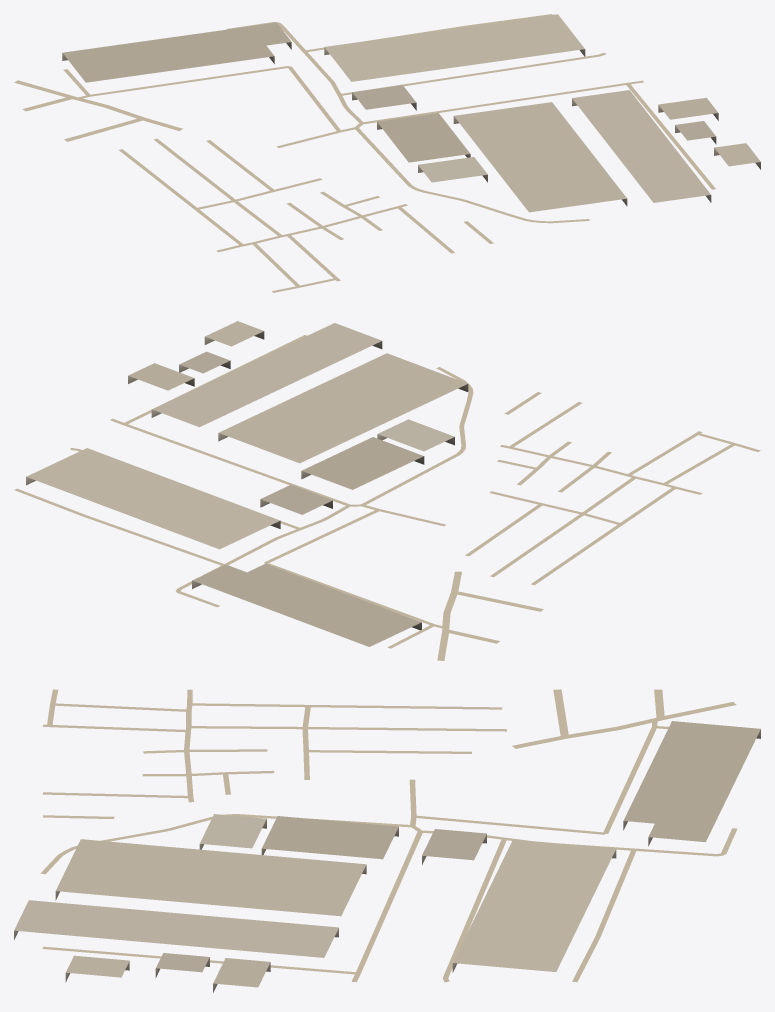
3 renders of one model, top to bottom at view 1: azimuth 30°, elevation 25°; view 2: azimuth 150°, elevation 25°; view 3: azimuth 270°, elevation 25°, orthographic. The views are drawn at different scales.
Parts seen in each view (by area): view 1: building, ground; view 2: building, ground; view 3: building, ground.
Part boxes in pixels (box(x1,y1,x2,y2)): building: box(62, 14, 760, 212); ground: box(14, 14, 715, 292); building: box(26, 321, 468, 646); ground: box(14, 335, 760, 660); building: box(14, 721, 760, 992); ground: box(40, 689, 737, 982).
Bounding box in the file's own units: 524 × 8 × 540.
